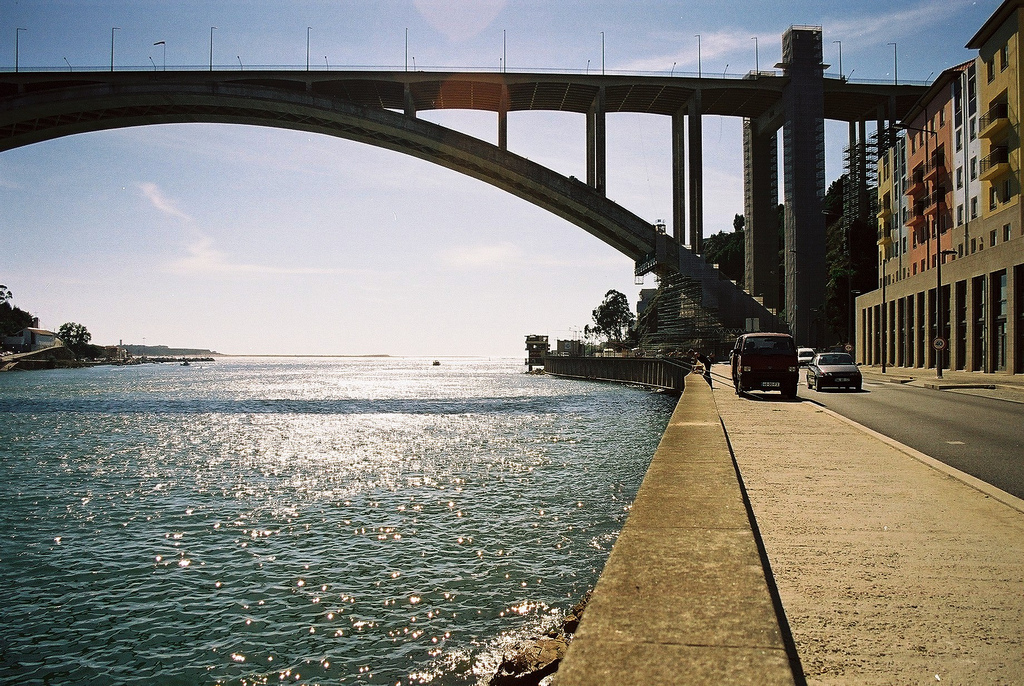arrabida: (0, 25, 938, 355)
